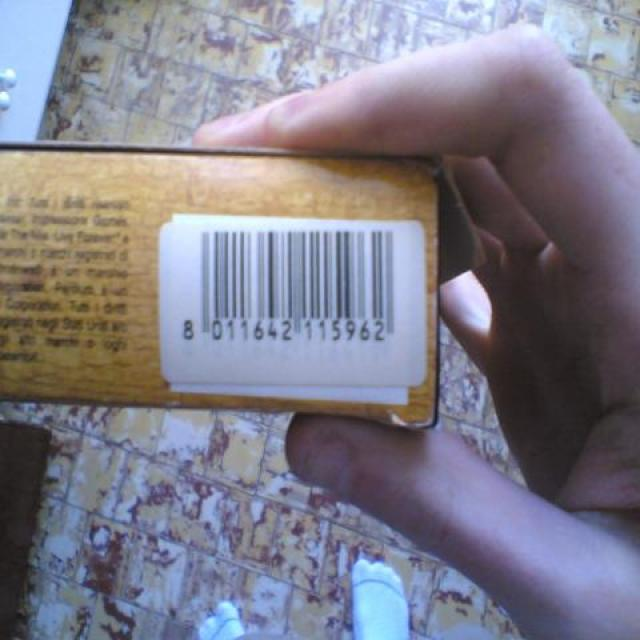Barcode: (170, 212, 418, 381)
